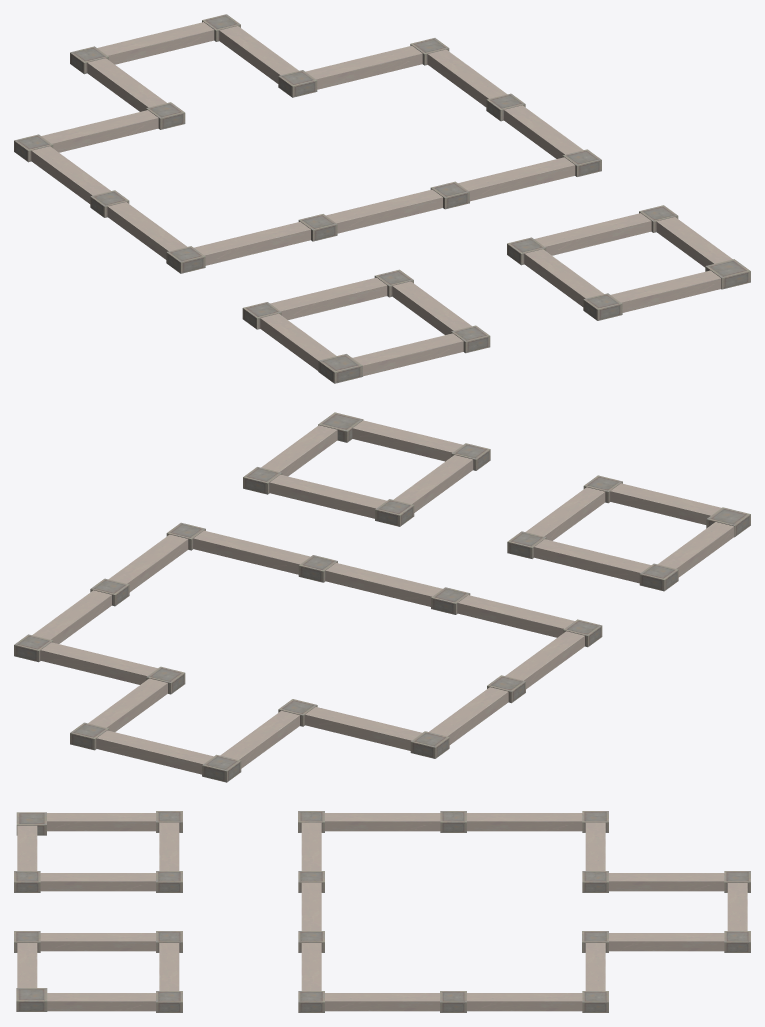
File: Homeworld_Interior_Fd_Room_D_Floor_01_Vo.fbx
The picture shows the model from 3 angles, top to bottom: view 1: azimuth 30°, elevation 25°; view 2: azimuth 150°, elevation 25°; view 3: azimuth 270°, elevation 25°; orthographic projection. The views are drawn at different scales.
Parts seen in each view (by area): view 1: Homeworld_Interior_Fd_Room_D_Floor_01_Vo; view 2: Homeworld_Interior_Fd_Room_D_Floor_01_Vo; view 3: Homeworld_Interior_Fd_Room_D_Floor_01_Vo.
Part boxes in pixels (x1,y1,x2,y2): Homeworld_Interior_Fd_Room_D_Floor_01_Vo: [14, 14, 750, 383]; Homeworld_Interior_Fd_Room_D_Floor_01_Vo: [14, 412, 750, 782]; Homeworld_Interior_Fd_Room_D_Floor_01_Vo: [14, 811, 750, 1012].
Bounding box in the file's own units: 15.94 × 0.4107 × 25.94.
